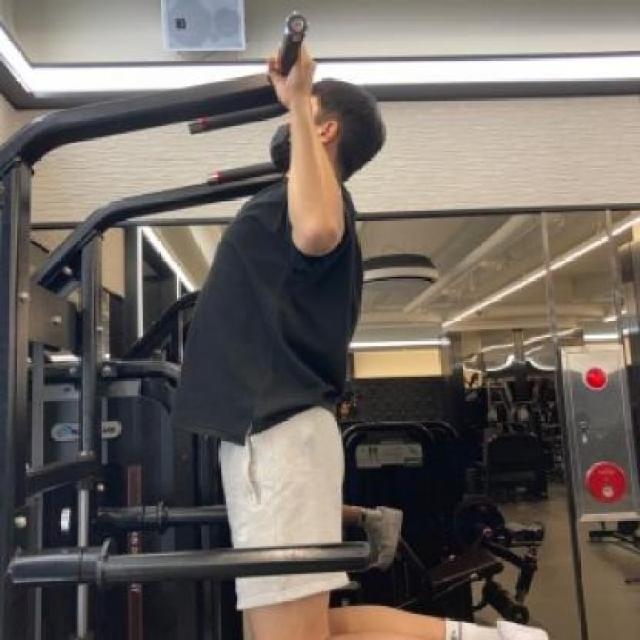Lat Pull Down: (12, 9, 558, 640)
